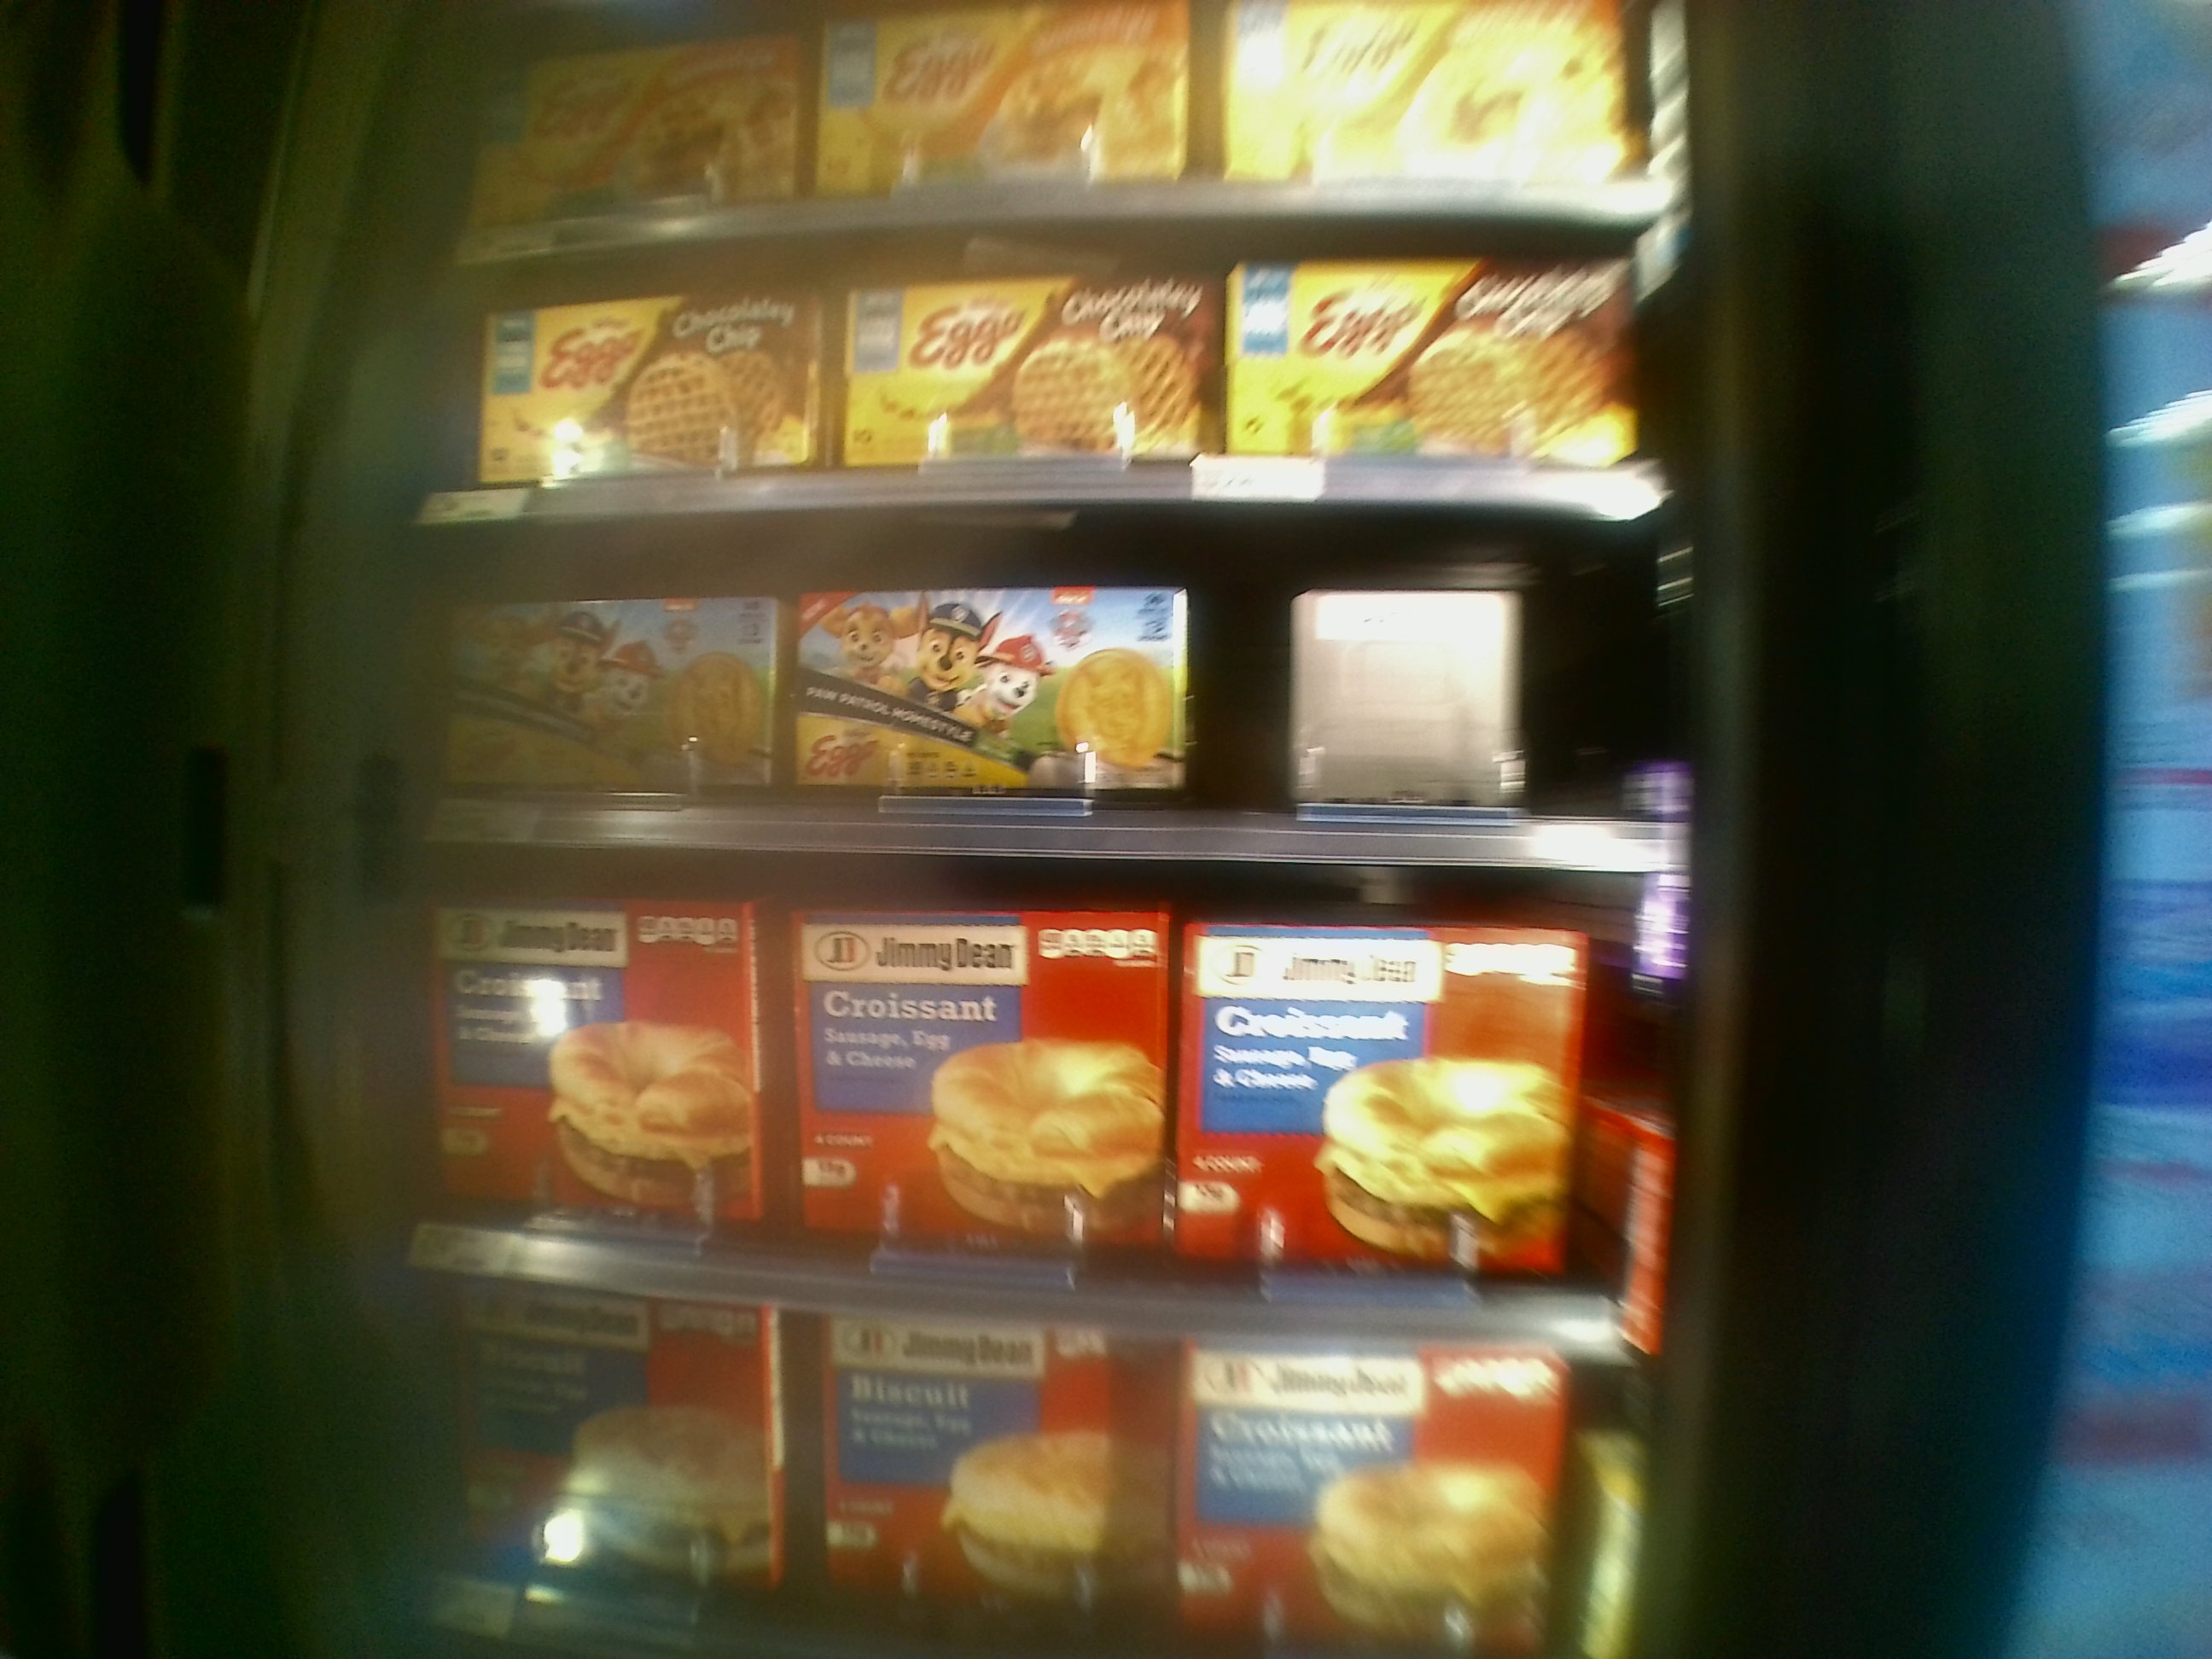shelf: (427, 847, 1646, 1338), (441, 502, 1686, 870)
